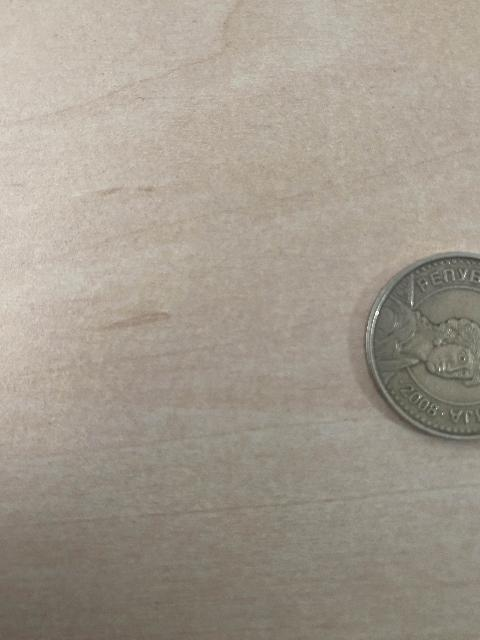50_coin: (371, 257, 479, 438)
